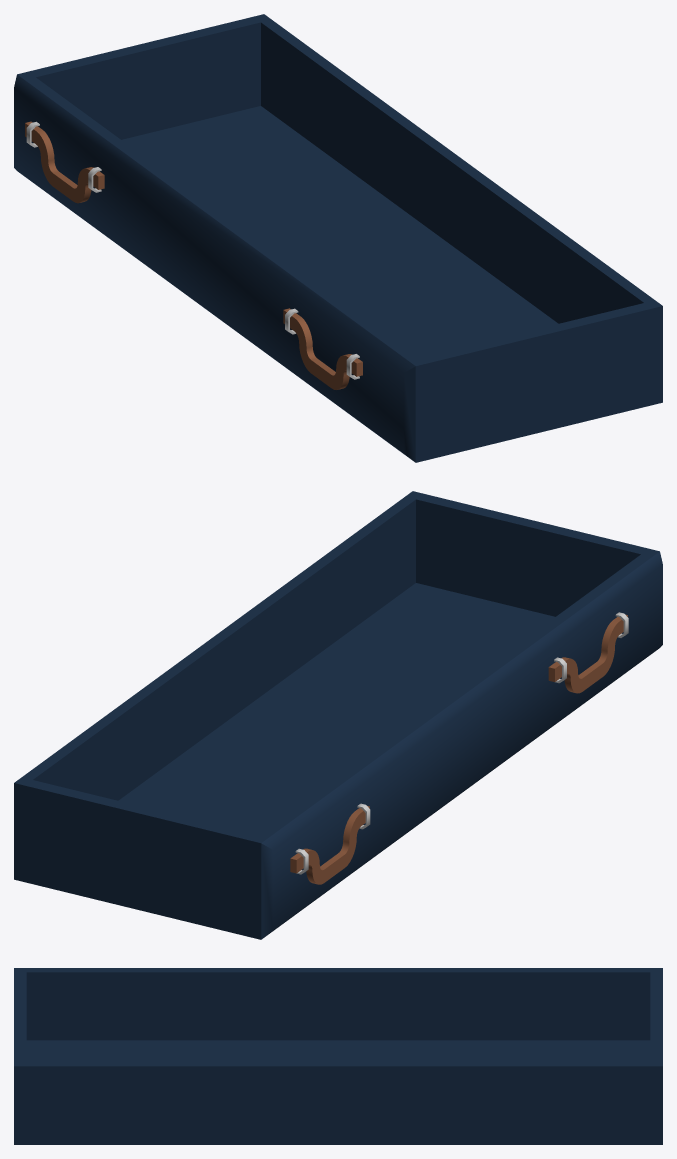
The model's file is cajon2.fbx.
The picture shows the model from 3 angles, top to bottom: view 1: azimuth 30°, elevation 25°; view 2: azimuth 150°, elevation 25°; view 3: azimuth 270°, elevation 25°; orthographic projection. The views are drawn at different scales.
Parts seen in each view (by area): view 1: Cajon2.001, Box082.001, Box082; view 2: Cajon2.001, Box082.001, Box082; view 3: Cajon2.001.
Part boxes in pixels (box(x1,y1,x2,y2)): Cajon2.001: box(14, 14, 662, 462); Box082.001: box(25, 121, 104, 203); Box082: box(283, 308, 362, 389); Cajon2.001: box(14, 491, 662, 939); Box082.001: box(290, 803, 370, 884); Box082: box(548, 612, 628, 693); Cajon2.001: box(14, 968, 662, 1144).
Size of the model in its own units: 49.39 by 17.25 by 129.
